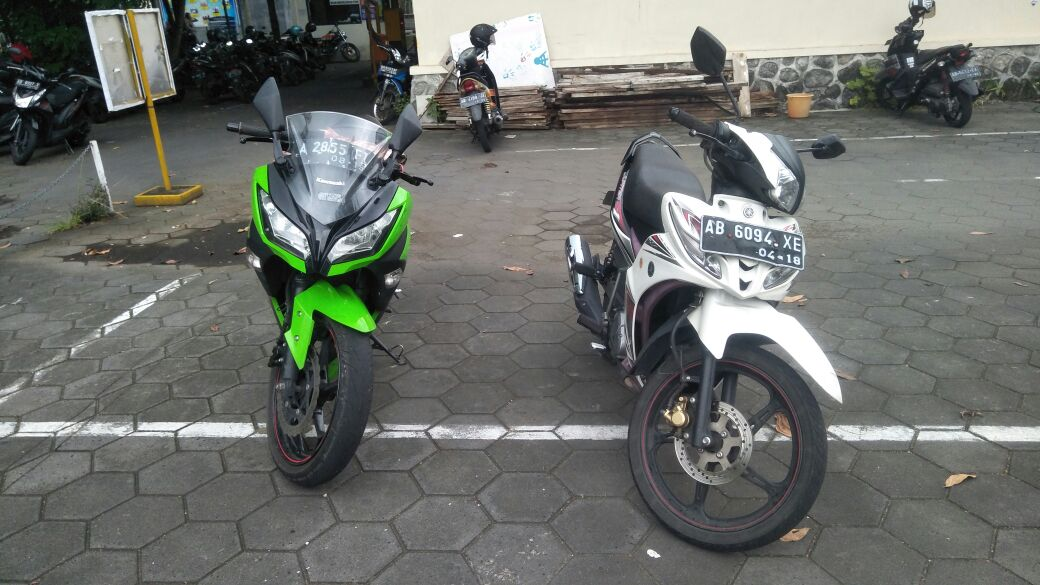plate: (702, 215, 804, 272), (459, 91, 488, 109)
